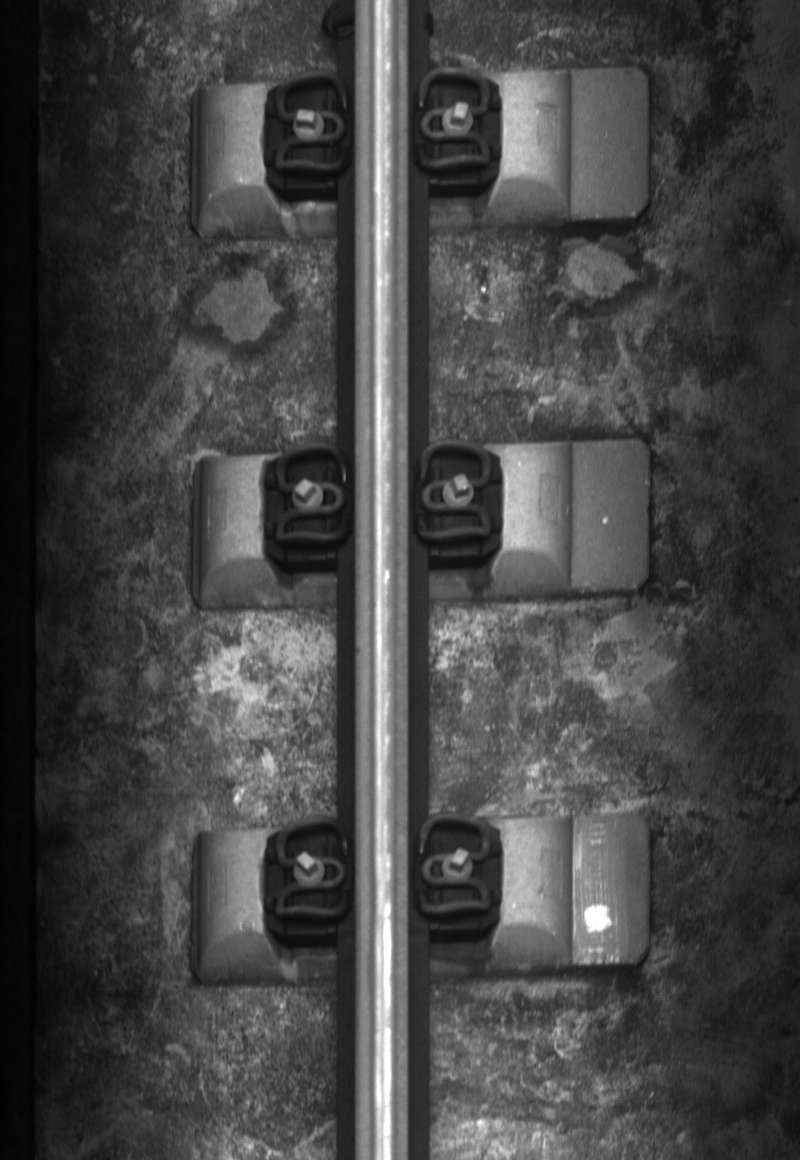l_faster: (269, 813, 353, 933), (268, 438, 353, 553), (270, 68, 352, 185)
r_faster: (409, 438, 499, 555), (414, 808, 497, 926), (413, 64, 494, 175)
